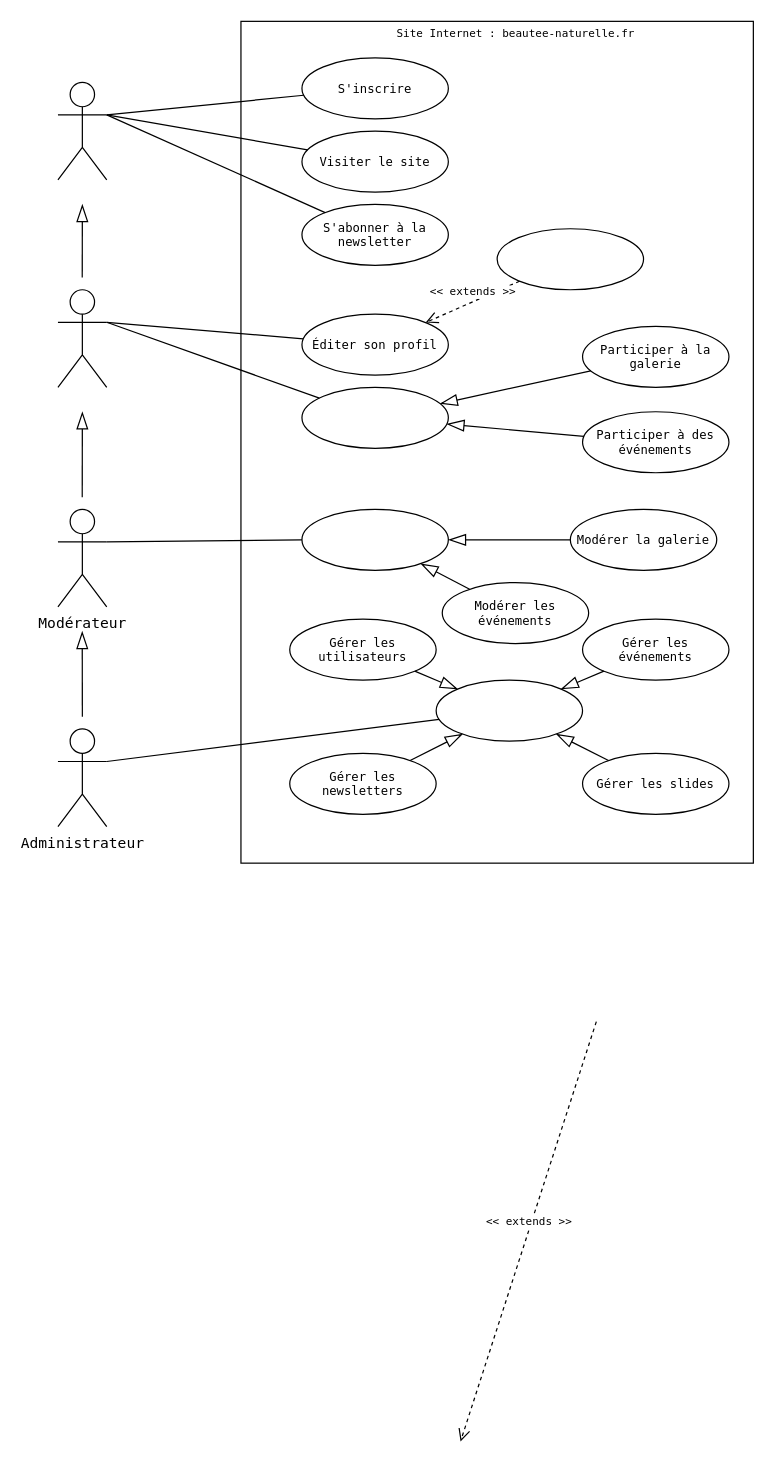
This 775x1475 diagram has some shape labels left out. The shapes that lost their labels are listed below. From the top down, each one's box as (x1, y1, x2, y2) in pixels, then its label:
(57, 81, 107, 180): Visiteur
(496, 228, 644, 290): Supprimer son compte
(57, 289, 107, 387): Membre
(301, 386, 448, 448): Participer
(301, 508, 448, 570): Modérer
(435, 679, 583, 741): Gérer le site
